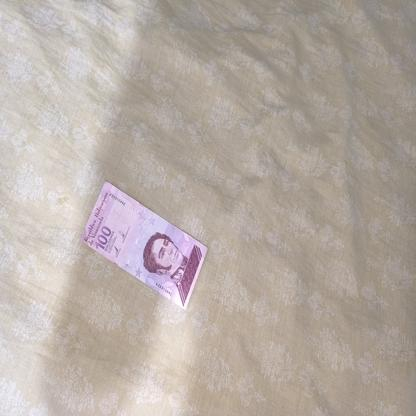one_hundred-front-vef: (77, 180, 209, 311)
